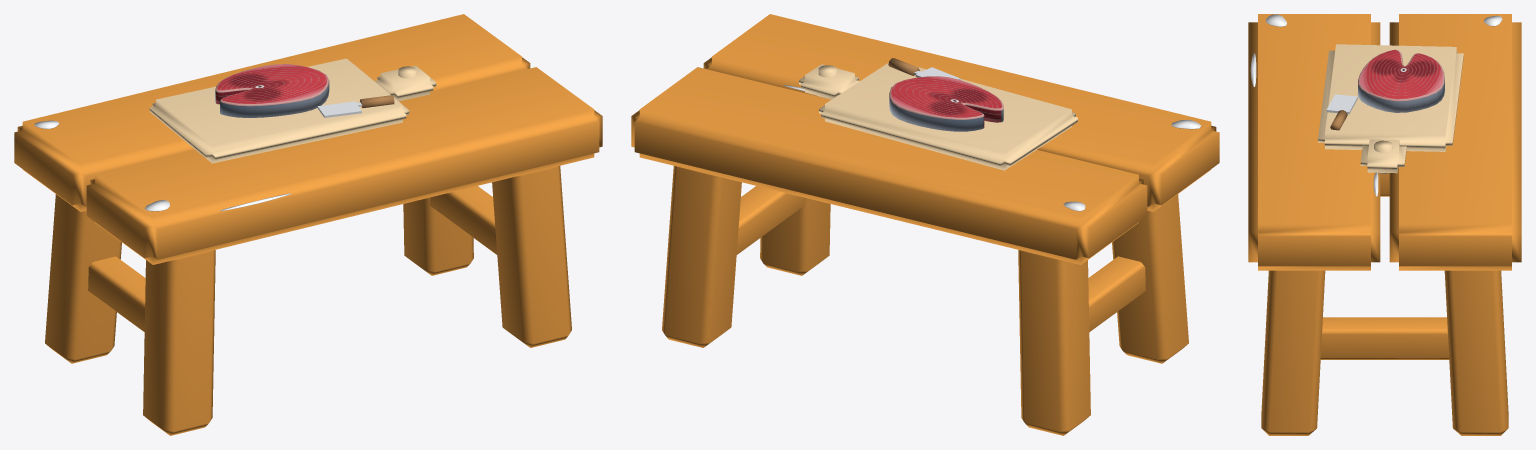
Rendered from ChefTable.glb.
3 renders of one model, left to right at view 1: azimuth 30°, elevation 25°; view 2: azimuth 150°, elevation 25°; view 3: azimuth 270°, elevation 25°, orthographic. The views are drawn at different scales.
Parts seen in each view (by area): view 1: ChefTable_Base, ChefTable_Board, ChefTable_Steak; view 2: ChefTable_Base, ChefTable_Board, ChefTable_Steak; view 3: ChefTable_Base, ChefTable_Board, ChefTable_Steak, ChefTable_Knife.
Part boxes in pixels (x1=…): ChefTable_Base: x1=14, y1=14, x2=602, y2=435; ChefTable_Board: x1=149, y1=58, x2=436, y2=163; ChefTable_Steak: x1=215, y1=64, x2=329, y2=117; ChefTable_Base: x1=631, y1=14, x2=1219, y2=435; ChefTable_Board: x1=799, y1=63, x2=1077, y2=170; ChefTable_Steak: x1=889, y1=76, x2=1003, y2=131; ChefTable_Base: x1=1248, y1=14, x2=1521, y2=435; ChefTable_Board: x1=1318, y1=44, x2=1463, y2=173; ChefTable_Steak: x1=1358, y1=49, x2=1444, y2=112; ChefTable_Knife: x1=1326, y1=94, x2=1357, y2=114.
Bounding box in the file's own units: 0.88 × 0.4773 × 0.466.
8 materials, 2 textured.
